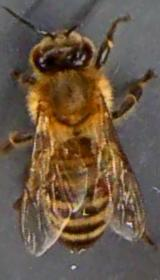varroa_mite: (85, 166, 118, 206)
